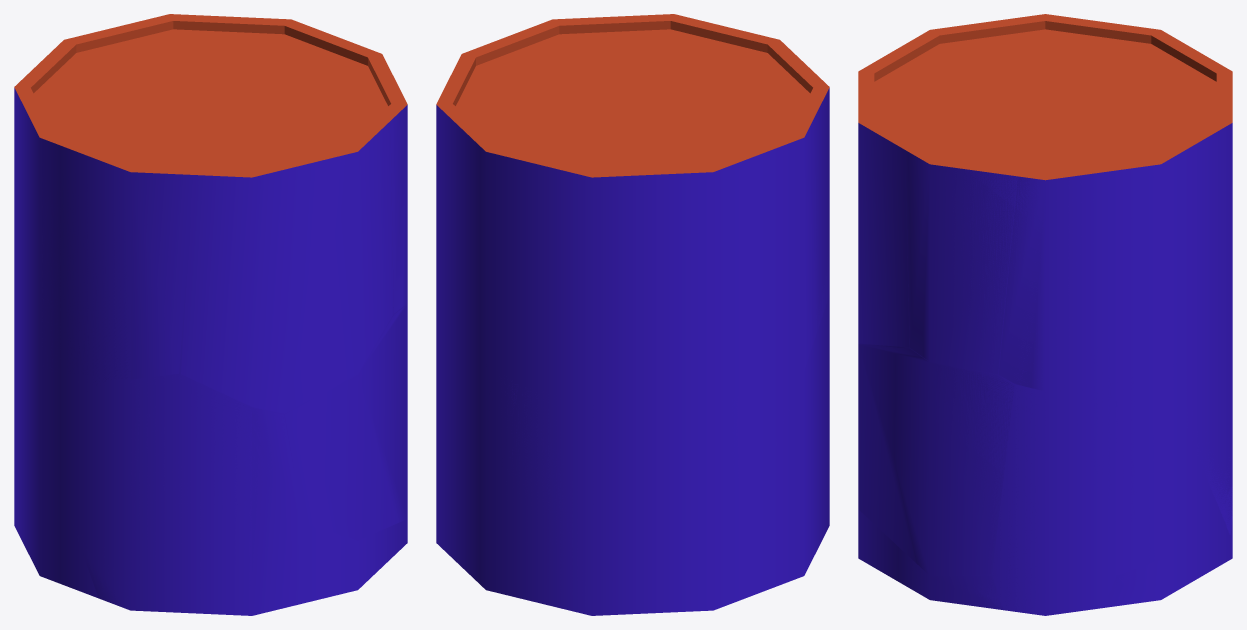
Rendered from P_ConserveXL_Colored_Breakable.fbx.
3 views of the same model, side by side, from view 1: azimuth 30°, elevation 25°; view 2: azimuth 150°, elevation 25°; view 3: azimuth 270°, elevation 25° (orthographic).
Parts seen in each view (by area): view 1: P_ConserveXL_Colored_Breakable, P_ConserveXL_Colored_Breakable_cell.012, P_ConserveXL_Colored_Breakable_cell.013, P_ConserveXL_Colored_Breakable_cell.009, P_ConserveXL_Colored_Breakable_cell, P_ConserveXL_Colored_Breakable_cell.008, P_ConserveXL_Colored_Breakable_cell.001, P_ConserveXL_Colored_Breakable_cell.005, P_ConserveXL_Colored_Breakable_cell.015, P_ConserveXL_Colored_Breakable_cell.003; view 2: P_ConserveXL_Colored_Breakable, P_ConserveXL_Colored_Breakable_cell.013, P_ConserveXL_Colored_Breakable_cell.008, P_ConserveXL_Colored_Breakable_cell.001, P_ConserveXL_Colored_Breakable_cell.011, P_ConserveXL_Colored_Breakable_cell.005, P_ConserveXL_Colored_Breakable_cell.003; view 3: P_ConserveXL_Colored_Breakable, P_ConserveXL_Colored_Breakable_cell.009, P_ConserveXL_Colored_Breakable_cell.015, P_ConserveXL_Colored_Breakable_cell.012, P_ConserveXL_Colored_Breakable_cell.006, P_ConserveXL_Colored_Breakable_cell.002, P_ConserveXL_Colored_Breakable_cell.008, P_ConserveXL_Colored_Breakable_cell.001, P_ConserveXL_Colored_Breakable_cell.005, P_ConserveXL_Colored_Breakable_cell.010, P_ConserveXL_Colored_Breakable_cell.013, P_ConserveXL_Colored_Breakable_cell.007 (+2 smaller).
Boxes of the visible parts, <box> form: P_ConserveXL_Colored_Breakable: <box>14,17,407,615</box>; P_ConserveXL_Colored_Breakable_cell.012: <box>181,115,393,413</box>; P_ConserveXL_Colored_Breakable_cell.013: <box>25,107,195,379</box>; P_ConserveXL_Colored_Breakable_cell.009: <box>285,304,407,540</box>; P_ConserveXL_Colored_Breakable_cell: <box>75,375,304,615</box>; P_ConserveXL_Colored_Breakable_cell.008: <box>238,17,342,103</box>; P_ConserveXL_Colored_Breakable_cell.001: <box>131,14,252,96</box>; P_ConserveXL_Colored_Breakable_cell.005: <box>44,23,232,111</box>; P_ConserveXL_Colored_Breakable_cell.015: <box>390,105,407,313</box>; P_ConserveXL_Colored_Breakable_cell.003: <box>14,59,55,107</box>; P_ConserveXL_Colored_Breakable: <box>436,14,829,615</box>; P_ConserveXL_Colored_Breakable_cell.013: <box>670,62,829,369</box>; P_ConserveXL_Colored_Breakable_cell.008: <box>436,73,611,119</box>; P_ConserveXL_Colored_Breakable_cell.001: <box>452,98,603,160</box>; P_ConserveXL_Colored_Breakable_cell.011: <box>502,387,752,615</box>; P_ConserveXL_Colored_Breakable_cell.005: <box>526,96,653,177</box>; P_ConserveXL_Colored_Breakable_cell.003: <box>642,152,750,175</box>; P_ConserveXL_Colored_Breakable: <box>858,21,1232,615</box>; P_ConserveXL_Colored_Breakable_cell.009: <box>858,344,1014,575</box>; P_ConserveXL_Colored_Breakable_cell.015: <box>905,150,1017,374</box>; P_ConserveXL_Colored_Breakable_cell.012: <box>858,93,993,347</box>; P_ConserveXL_Colored_Breakable_cell.006: <box>998,176,1111,391</box>; P_ConserveXL_Colored_Breakable_cell.002: <box>1115,358,1232,564</box>; P_ConserveXL_Colored_Breakable_cell.008: <box>1026,118,1183,244</box>; P_ConserveXL_Colored_Breakable_cell.001: <box>1049,104,1232,150</box>; P_ConserveXL_Colored_Breakable_cell.005: <box>1031,54,1232,114</box>; P_ConserveXL_Colored_Breakable_cell.010: <box>907,560,1003,610</box>; P_ConserveXL_Colored_Breakable_cell.013: <box>893,14,1111,85</box>; P_ConserveXL_Colored_Breakable_cell.007: <box>1104,560,1160,607</box>.
Size of the model in its own units: 97.23 by 119 by 92.47.
